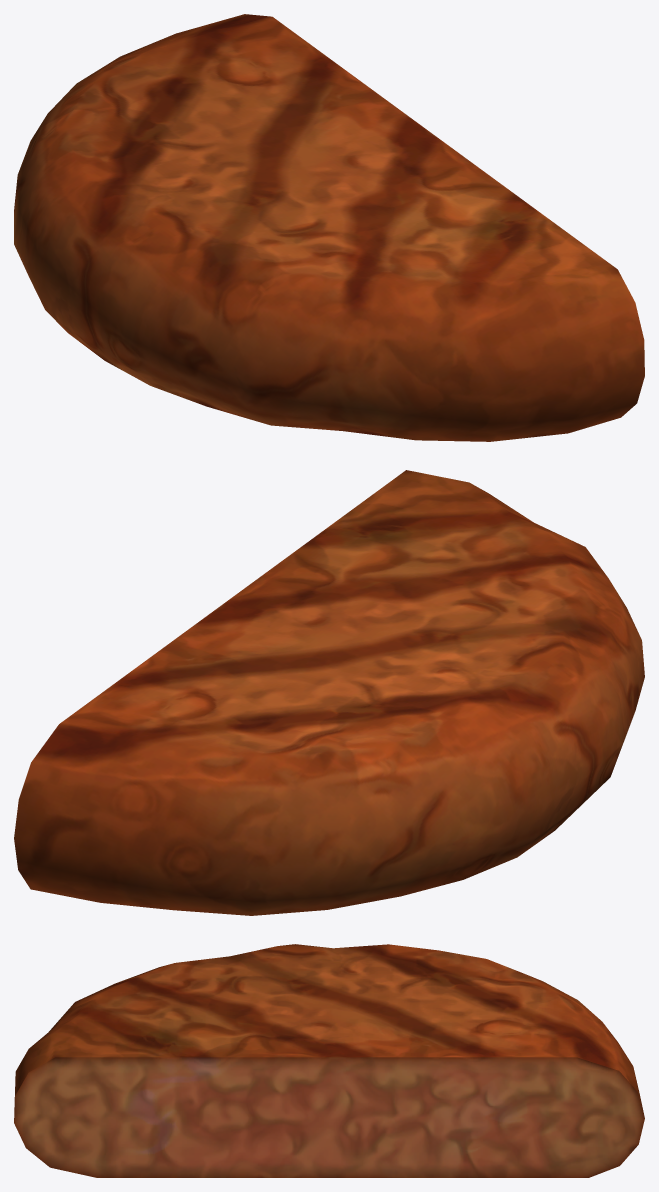
Rendered from SM_BurgerPattyGrilledCutA.glb.
3 views of the same model, one above another, from view 1: azimuth 30°, elevation 25°; view 2: azimuth 150°, elevation 25°; view 3: azimuth 270°, elevation 25° (orthographic). The views are drawn at different scales.
Visible parts, largest first — view 1: SM_BurgerPattyGrilledCutA; view 2: SM_BurgerPattyGrilledCutA; view 3: SM_BurgerPattyGrilledCutA.
Part boxes in pixels (x1,y1,x2,y2): SM_BurgerPattyGrilledCutA: [14, 14, 644, 441]; SM_BurgerPattyGrilledCutA: [14, 470, 644, 915]; SM_BurgerPattyGrilledCutA: [14, 944, 644, 1177].
Size of the model in its own units: 0.0858 by 0.0362 by 0.1719.
Materials: 1 (1 with a texture image).
